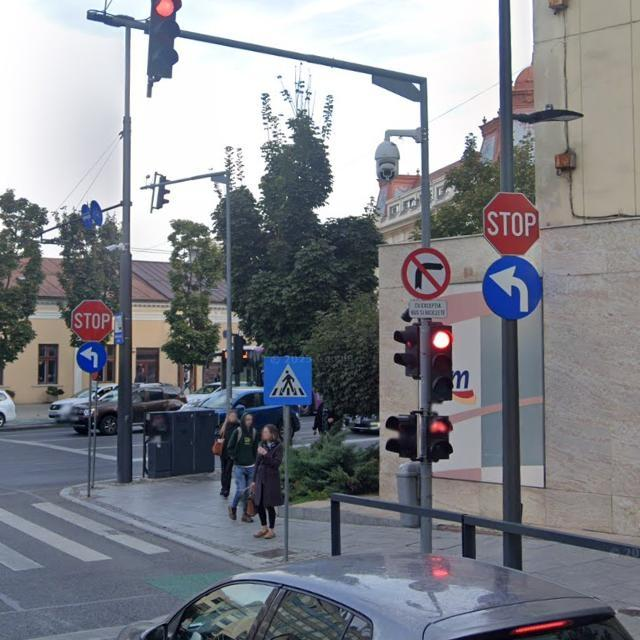info_crosswalk: (264, 356, 313, 406)
prio_stop: (483, 192, 541, 256), (71, 299, 113, 342)
